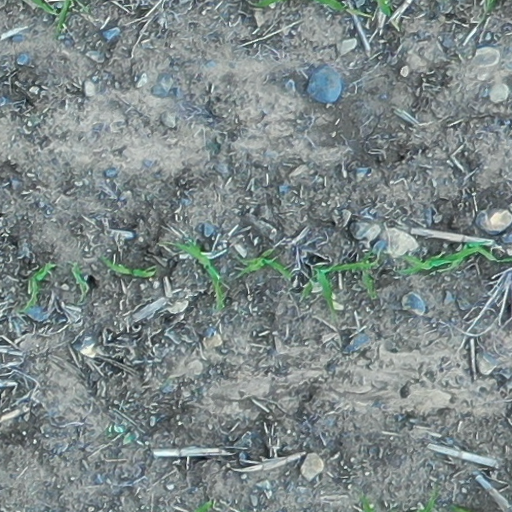planta: (167, 240, 224, 306), (302, 261, 374, 308), (400, 246, 483, 274), (23, 262, 55, 312), (238, 249, 292, 278), (102, 258, 153, 276)
